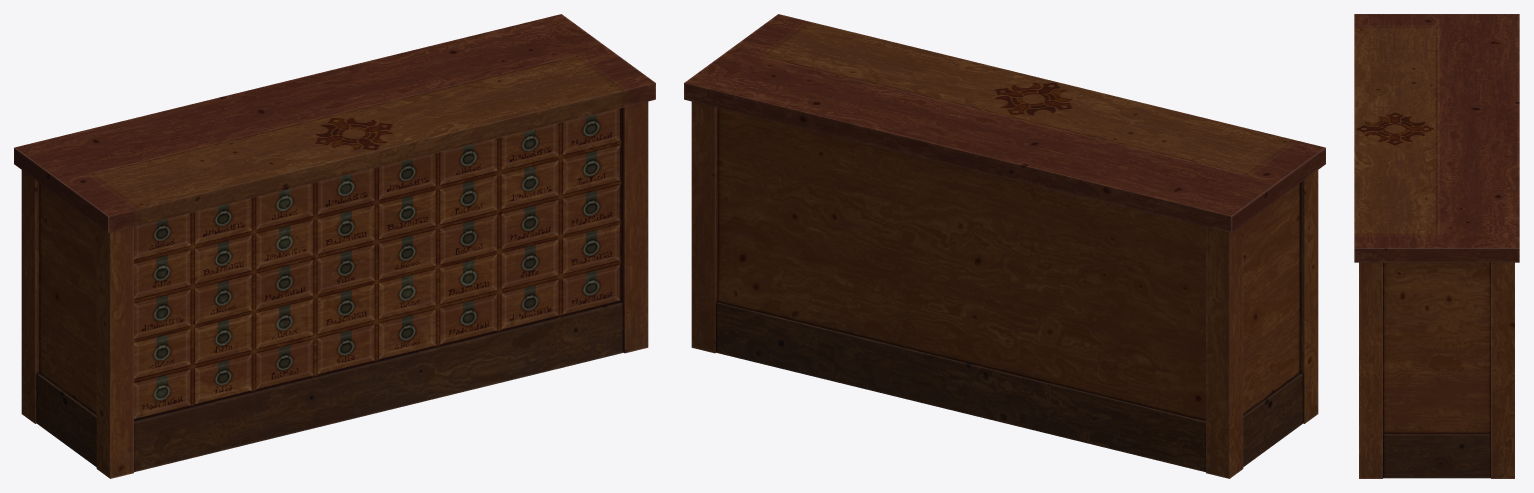
The model's file is DS_WizLab_Furn_ApothecaryRack.fbx.
3 views of the same model, side by side, from view 1: azimuth 30°, elevation 25°; view 2: azimuth 150°, elevation 25°; view 3: azimuth 270°, elevation 25° (orthographic). The views are drawn at different scales.
Parts seen in each view (by area): view 1: DS_WizLab_Furn_ApothecaryRack; view 2: DS_WizLab_Furn_ApothecaryRack; view 3: DS_WizLab_Furn_ApothecaryRack.
Part boxes in pixels (left/top/right/bottom): DS_WizLab_Furn_ApothecaryRack: left=14, top=14, right=655, bottom=478; DS_WizLab_Furn_ApothecaryRack: left=684, top=14, right=1325, bottom=478; DS_WizLab_Furn_ApothecaryRack: left=1354, top=14, right=1519, bottom=478.
Bounding box in the file's own units: 173 × 80.18 × 51.63.
Materials: 1 (1 with a texture image).
